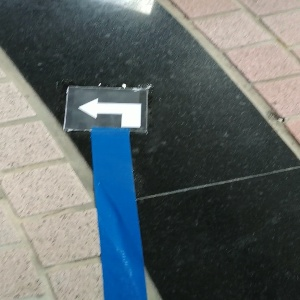left: (66, 85, 147, 131)
